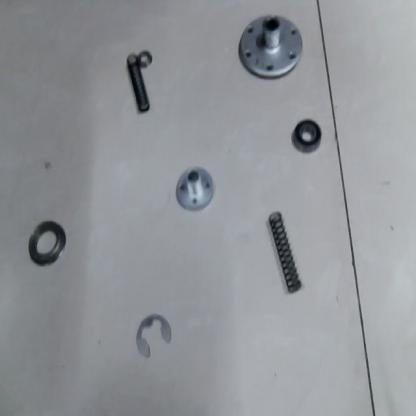FOD: (234, 8, 307, 85), (266, 207, 303, 299), (171, 165, 218, 213), (27, 220, 67, 269), (135, 312, 172, 361), (125, 51, 151, 116), (289, 116, 323, 154), (135, 46, 156, 70)
